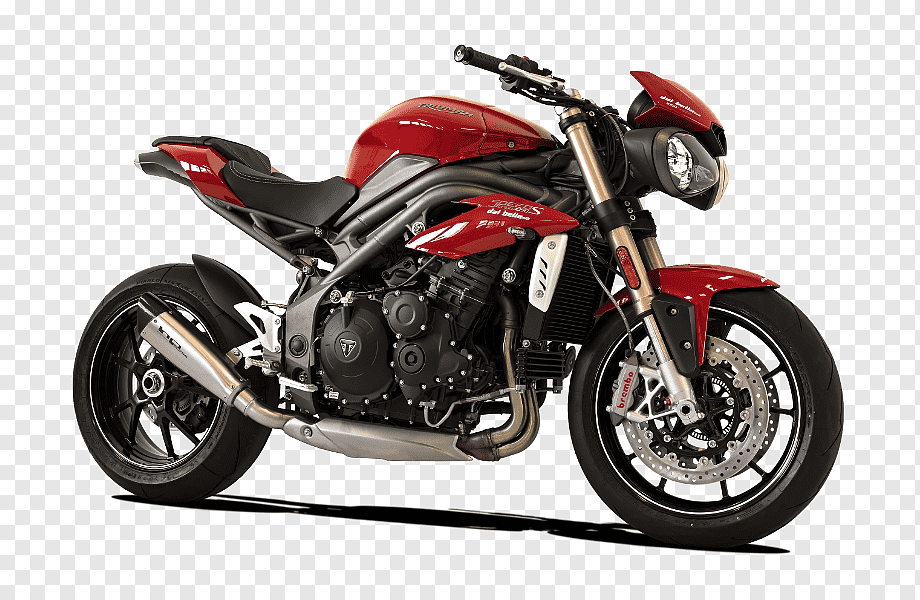motorbike: (73, 43, 845, 548)
